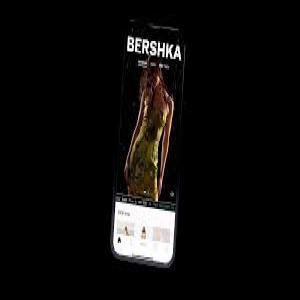bershka: (123, 29, 188, 66)
